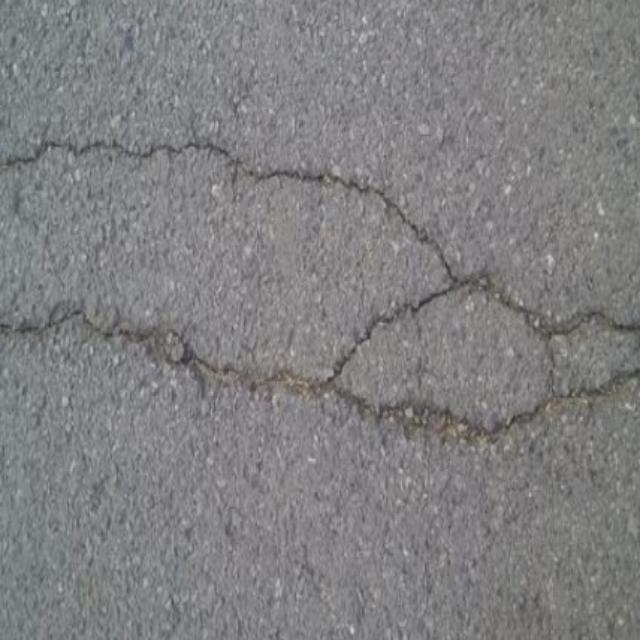Alligator: (224, 224, 416, 416)
Longitudinal: (224, 224, 416, 416)
